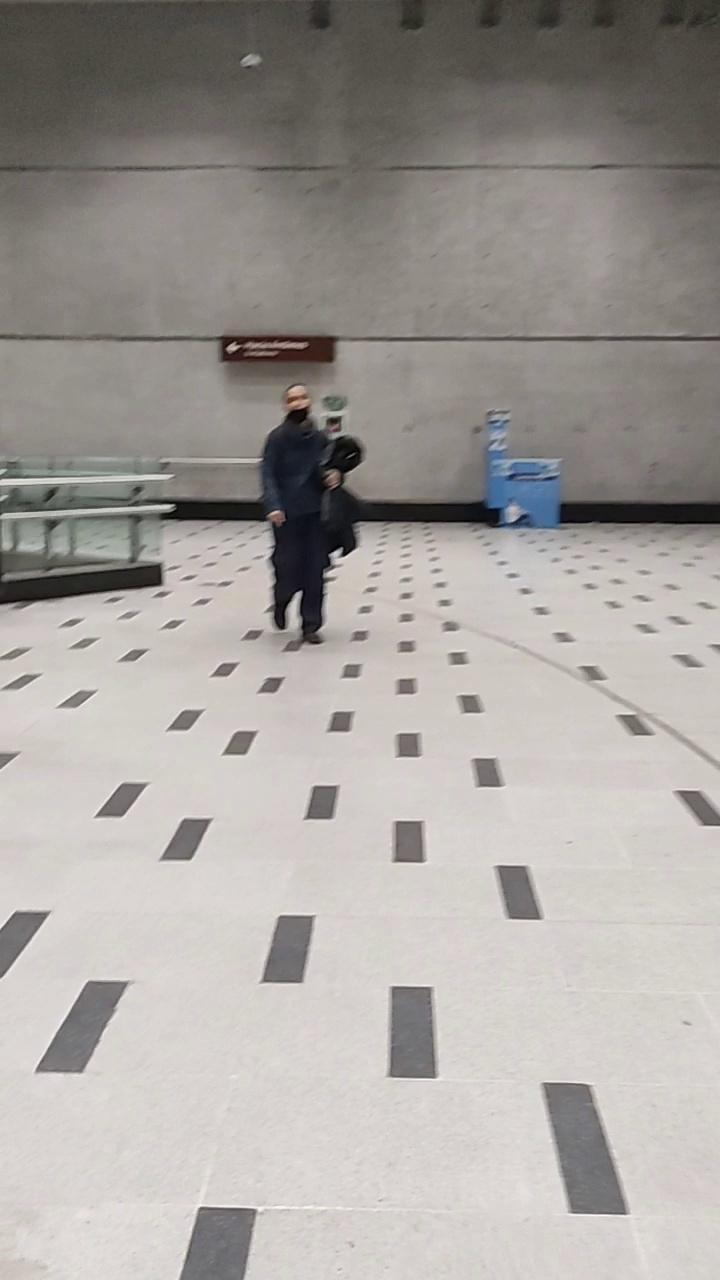left arrow: (225, 339, 243, 357)
